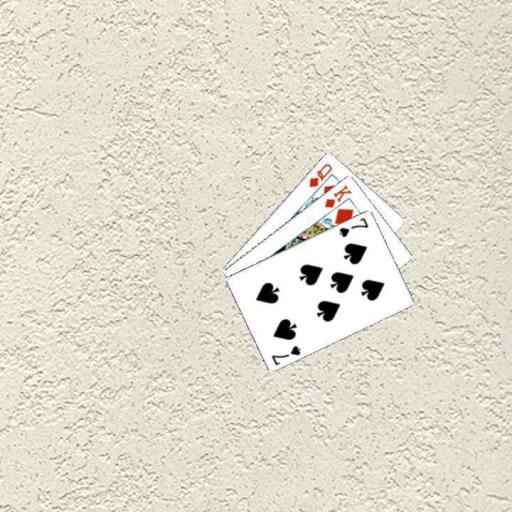card-corner: (322, 181, 354, 209), (336, 214, 370, 238), (268, 342, 302, 366), (306, 160, 333, 188)
